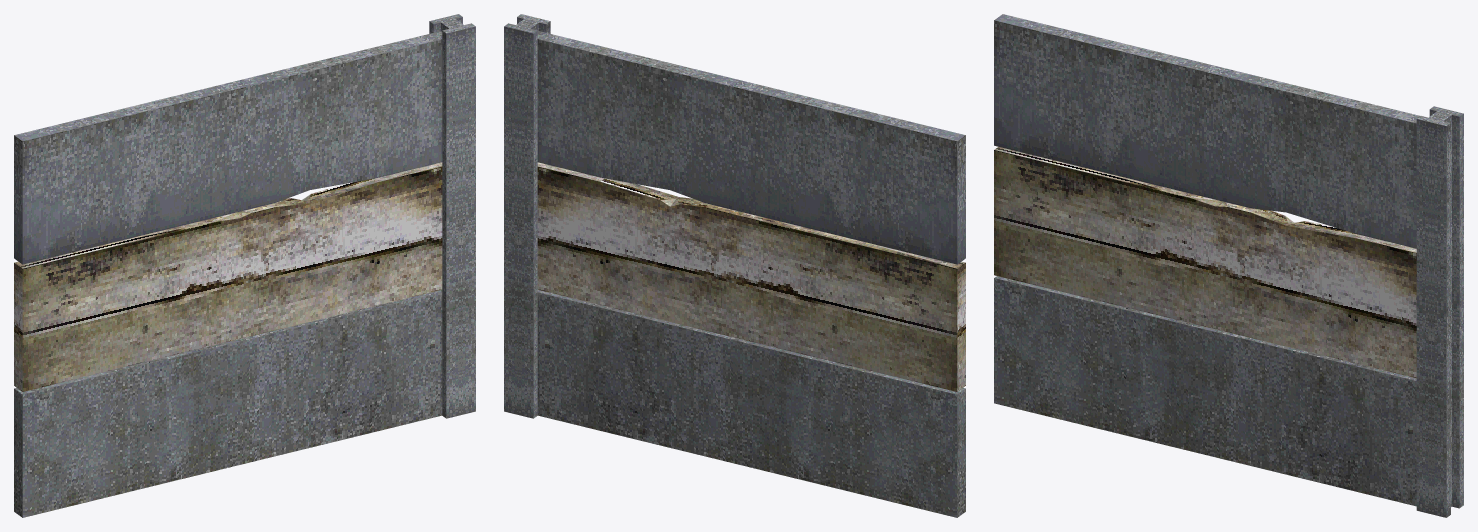
Rendered from plackard_open_patched.glb.
3 renders of one model, left to right at view 1: azimuth 30°, elevation 25°; view 2: azimuth 150°, elevation 25°; view 3: azimuth 330°, elevation 25°, orthographic.
Visible parts, largest first — view 1: plackard_open_patched; view 2: plackard_open_patched; view 3: plackard_open_patched.
Part boxes in pixels (bbox=[...]): plackard_open_patched: bbox=[14, 14, 475, 517]; plackard_open_patched: bbox=[504, 14, 965, 517]; plackard_open_patched: bbox=[994, 14, 1463, 517].
Size of the model in its own units: 3.05 by 2.5 by 0.2.
1 material, 1 textured.
